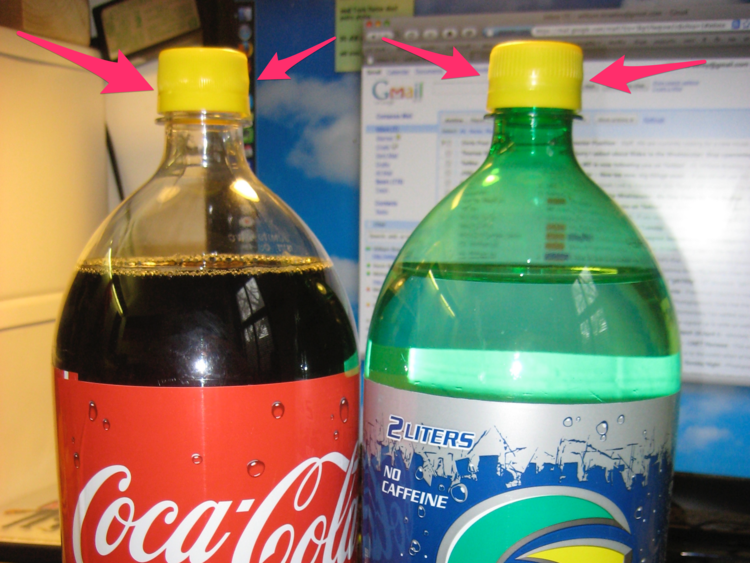Rec_Plastic: (368, 18, 680, 557), (59, 38, 358, 553)
